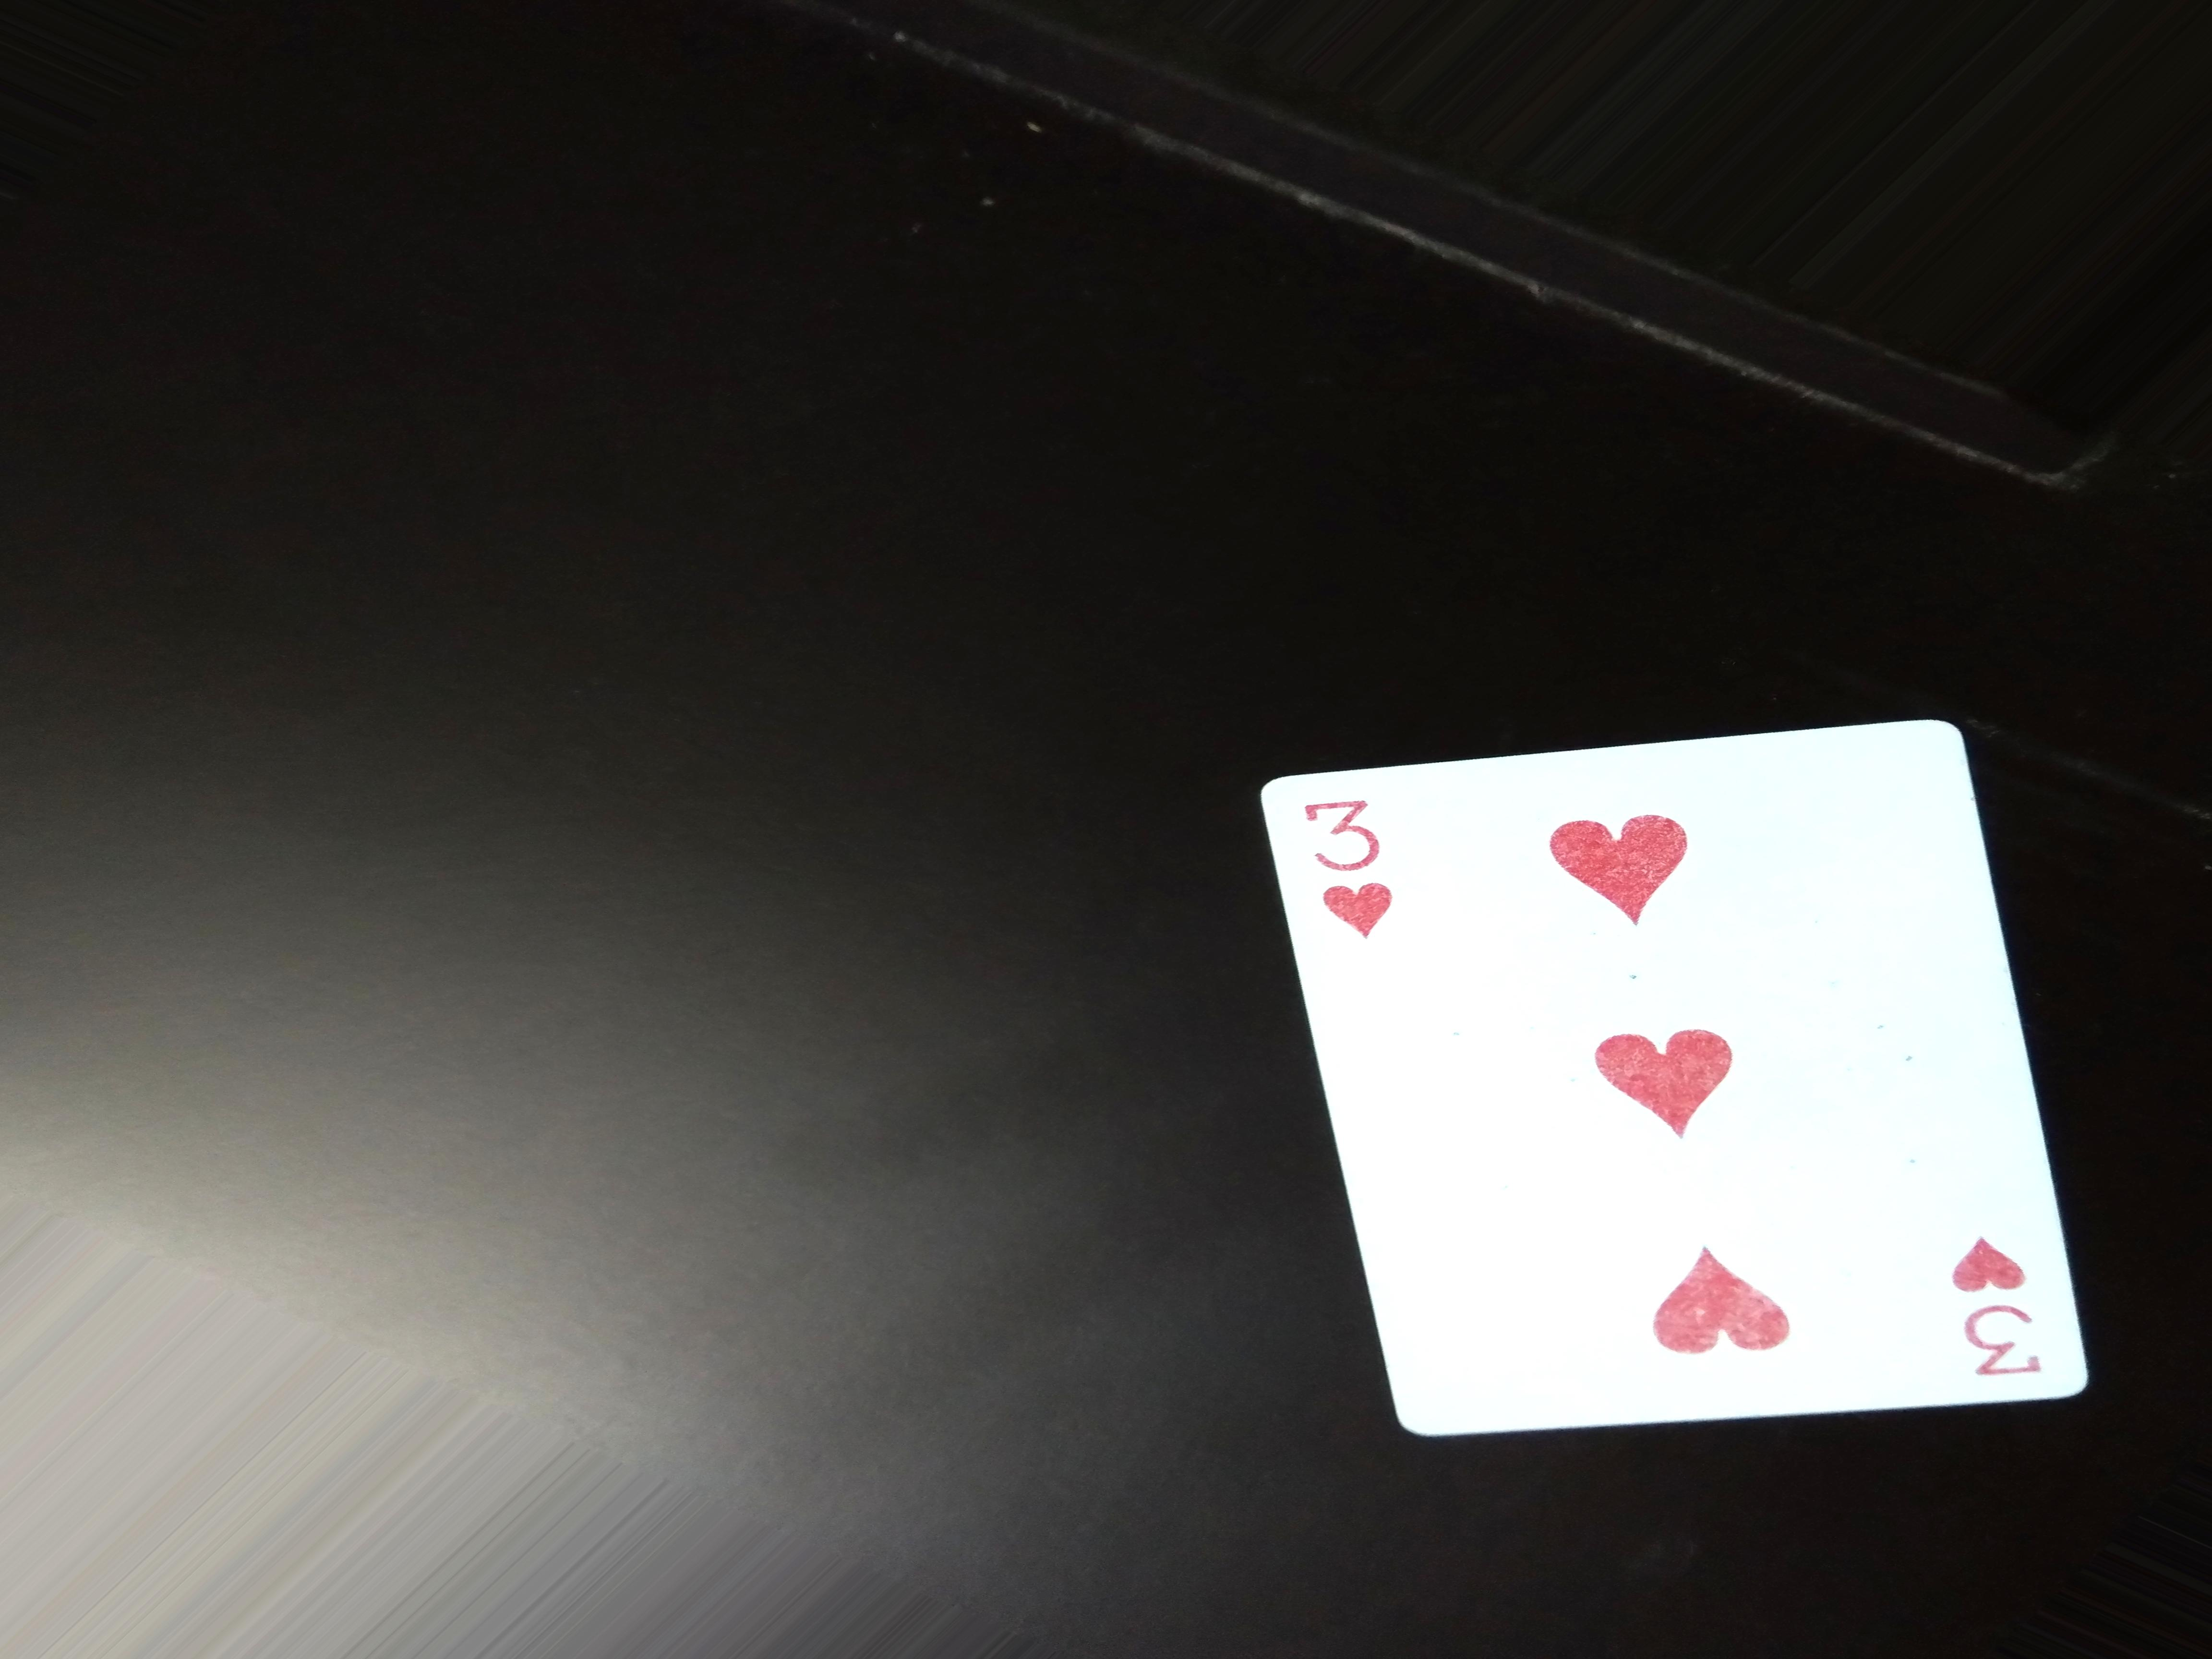3H: (1292, 781, 1402, 943)
